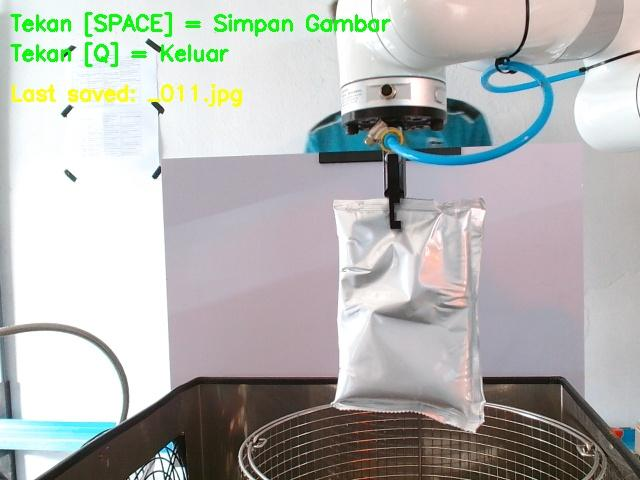retort-pouch: (329, 195, 488, 428)
